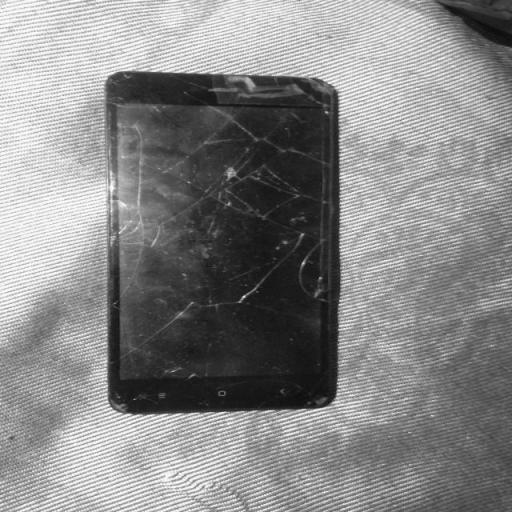phone: (108, 73, 340, 418)
